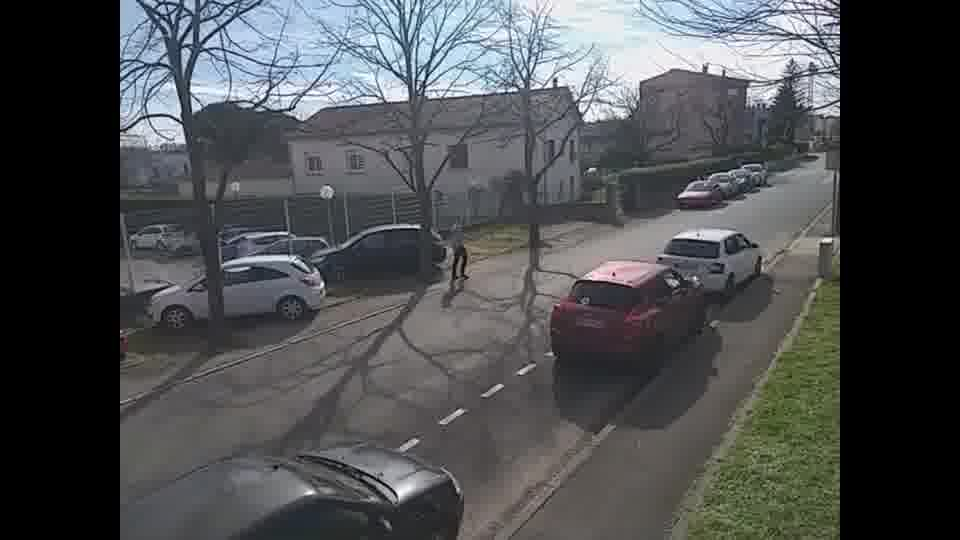jugador: (443, 208, 473, 285)
